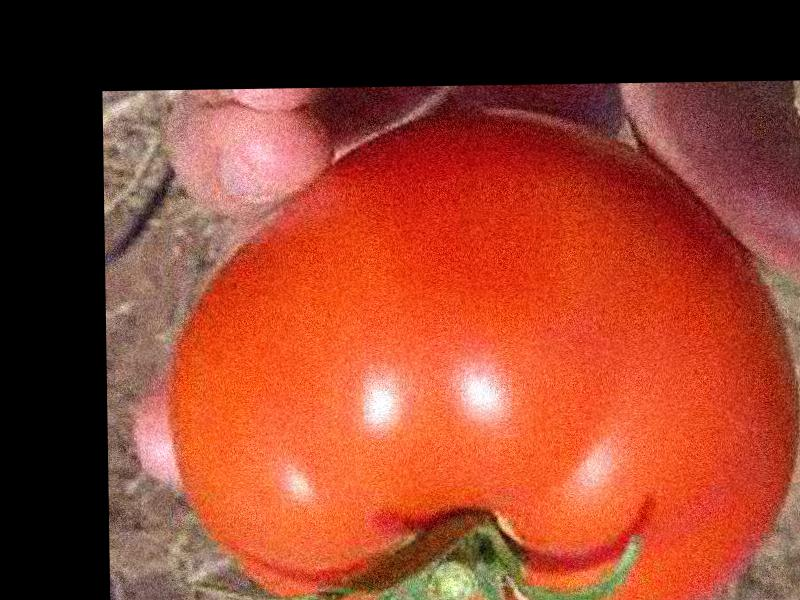Tomato: (167, 111, 793, 600)
